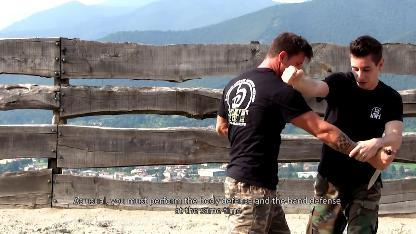knife: (364, 144, 396, 190)
